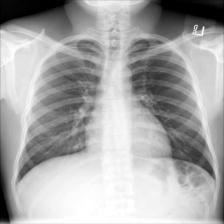normal: (13, 36, 218, 204)
